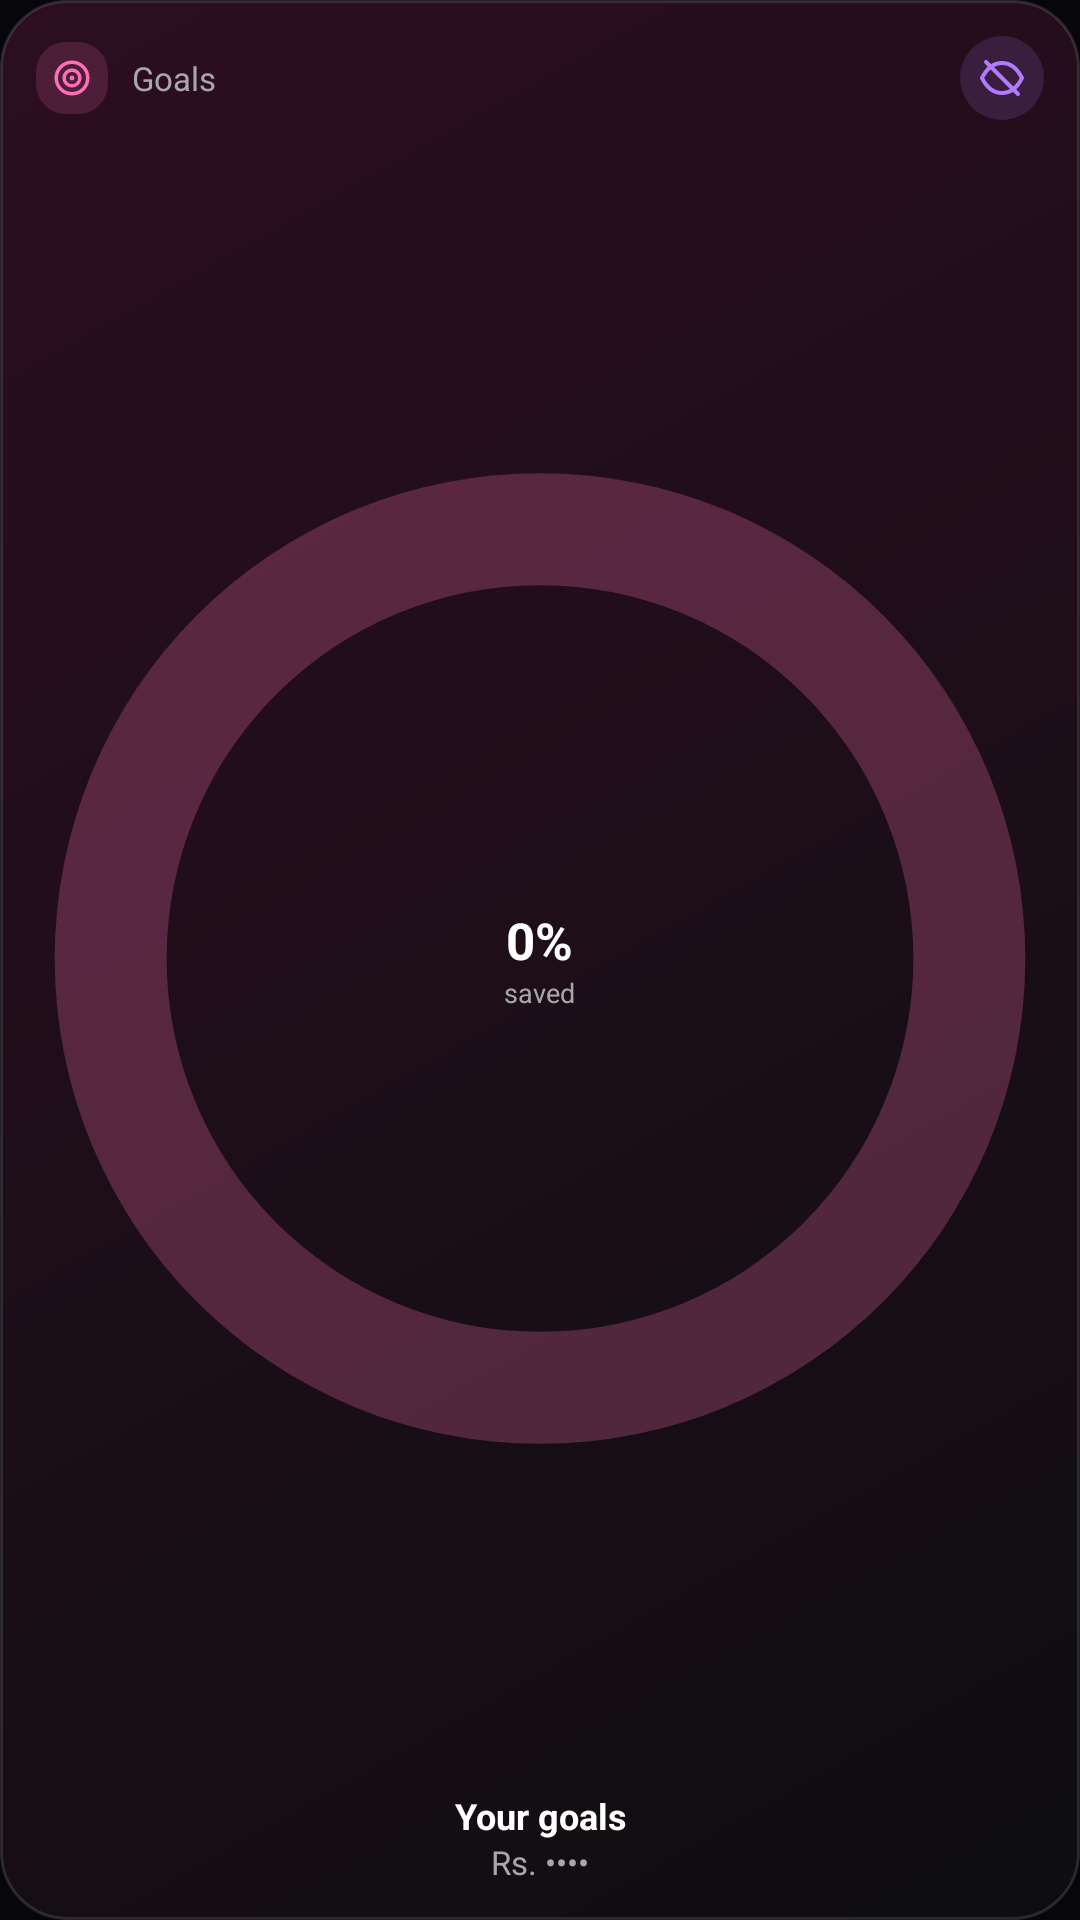

Named icons in this screenshot (1080x1920) and their bounding boxes, (x1, y1, x2, y2):
Show amounts: (960, 36, 1044, 120)
